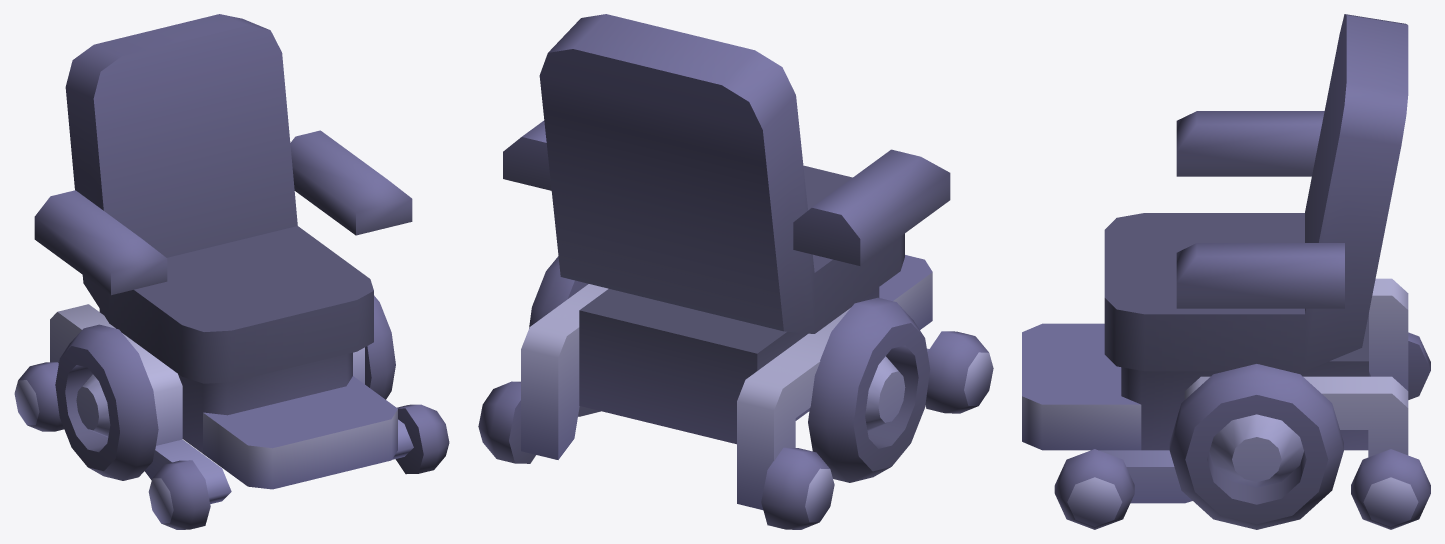
The model's file is wheelchair-power.obj.
3 renders of one model, left to right at view 1: azimuth 30°, elevation 25°; view 2: azimuth 150°, elevation 25°; view 3: azimuth 270°, elevation 25°, orthographic. The views are drawn at different scales.
Parts seen in each view (by area): view 1: wheelchair-power; view 2: wheelchair-power; view 3: wheelchair-power.
Part boxes in pixels (box(x1,y1,x2,y2)): wheelchair-power: box(14, 14, 449, 529); wheelchair-power: box(478, 14, 993, 529); wheelchair-power: box(1022, 14, 1430, 529).
Size of the model in its own units: 0.48 by 0.5717 by 0.5109.
Materials: 1 (1 with a texture image).
